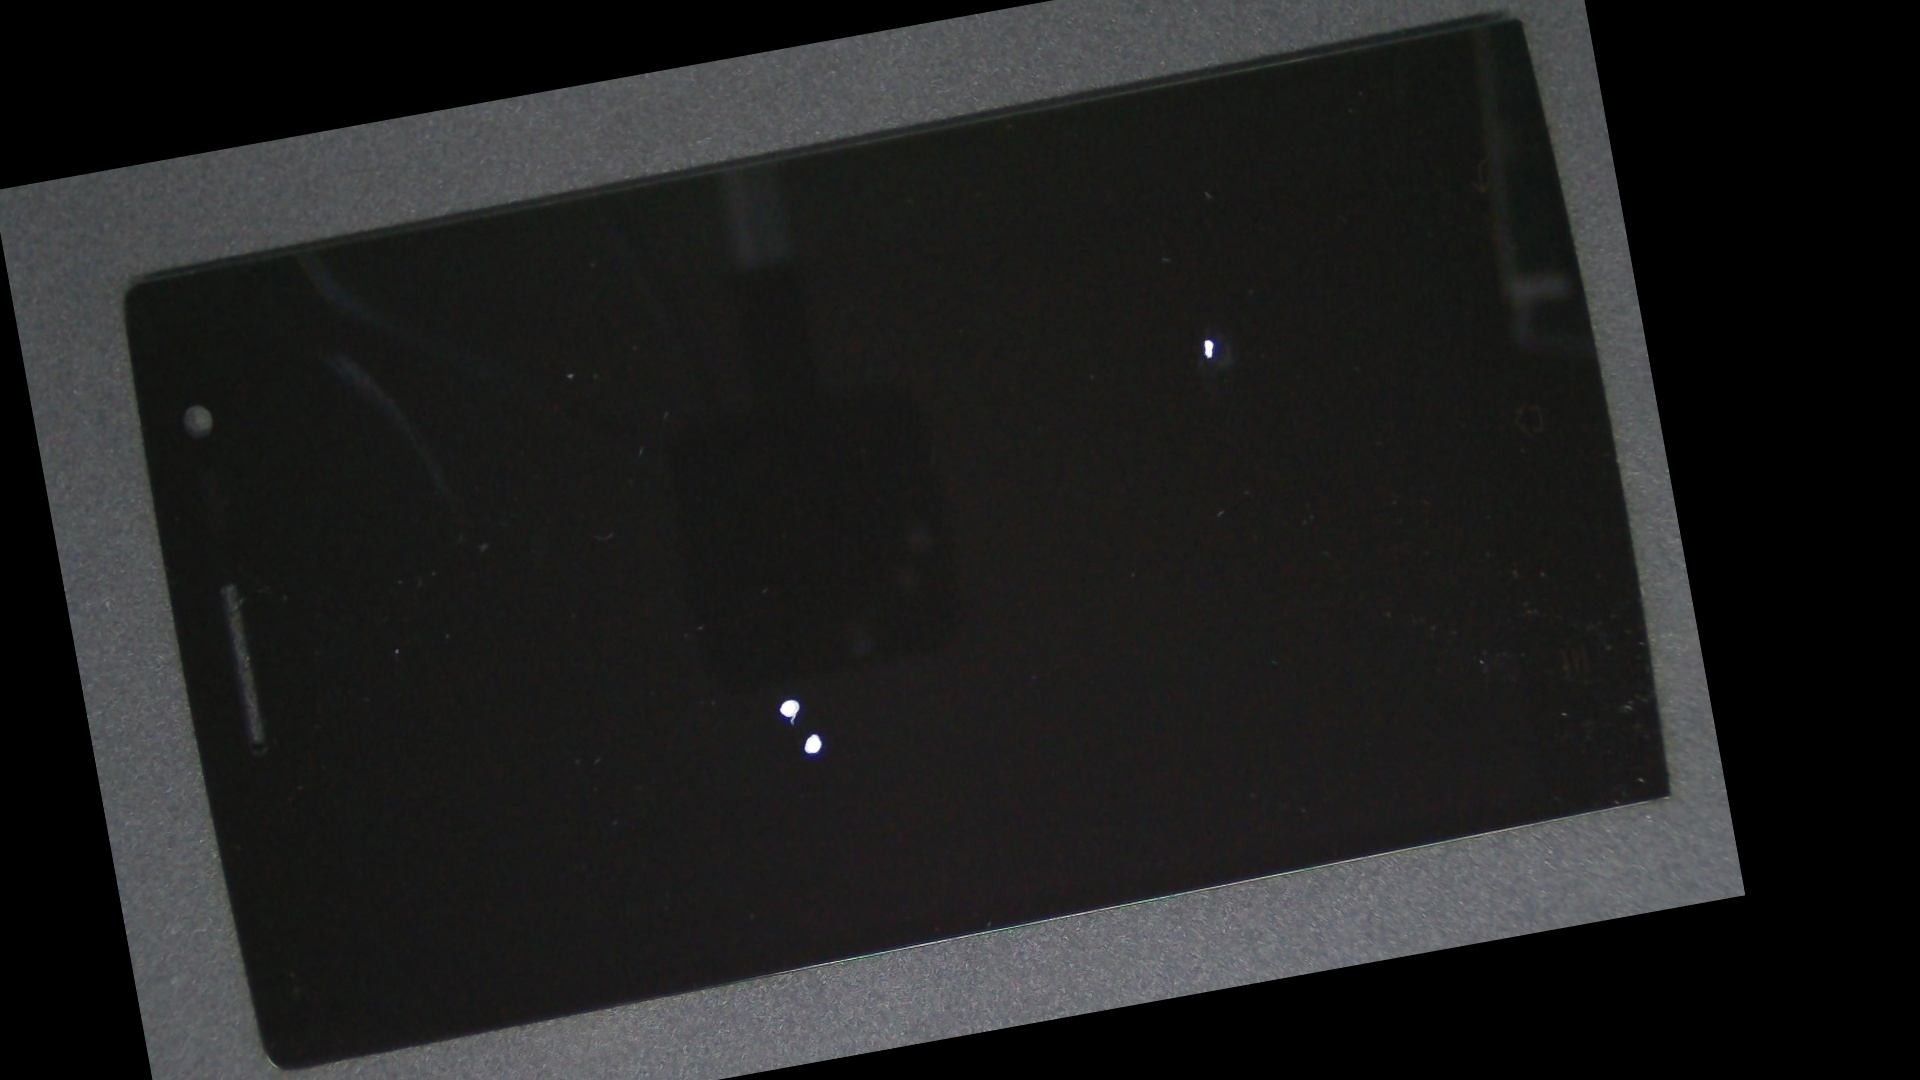oil: (404, 335, 1221, 1080), (390, 323, 1183, 1076), (600, 84, 1663, 618)
